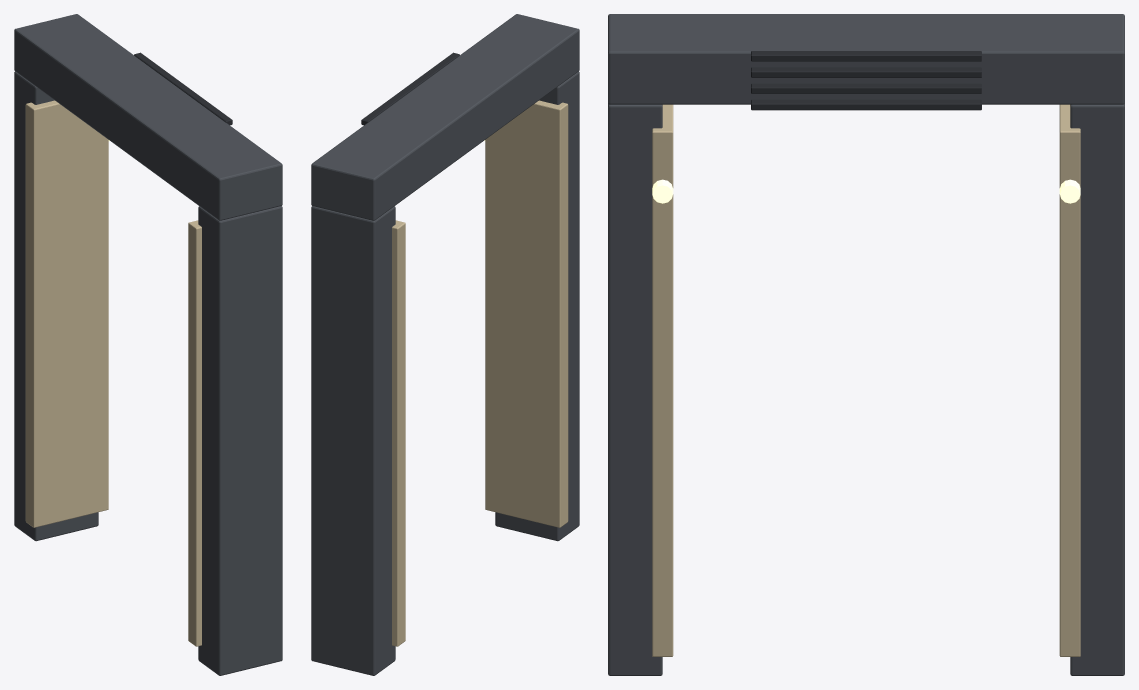
Rendered from env_doorframe.fbx.
3 renders of one model, left to right at view 1: azimuth 30°, elevation 25°; view 2: azimuth 150°, elevation 25°; view 3: azimuth 270°, elevation 25°, orthographic. The views are drawn at different scales.
Visible parts, largest first — view 1: SM_Env_Doorframe; view 2: SM_Env_Doorframe; view 3: SM_Env_Doorframe.
Part boxes in pixels (x1,y1,x2,y2): SM_Env_Doorframe: (14, 14, 282, 675); SM_Env_Doorframe: (311, 14, 579, 675); SM_Env_Doorframe: (608, 14, 1124, 675).
Size of what is drawn, in the model's own units: 58 by 329 by 246.
